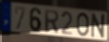2: (61, 10, 74, 36)
6: (29, 7, 43, 34)
7: (14, 6, 26, 31)
N: (90, 13, 107, 40)
O: (76, 12, 90, 37)
R: (44, 9, 60, 35)
